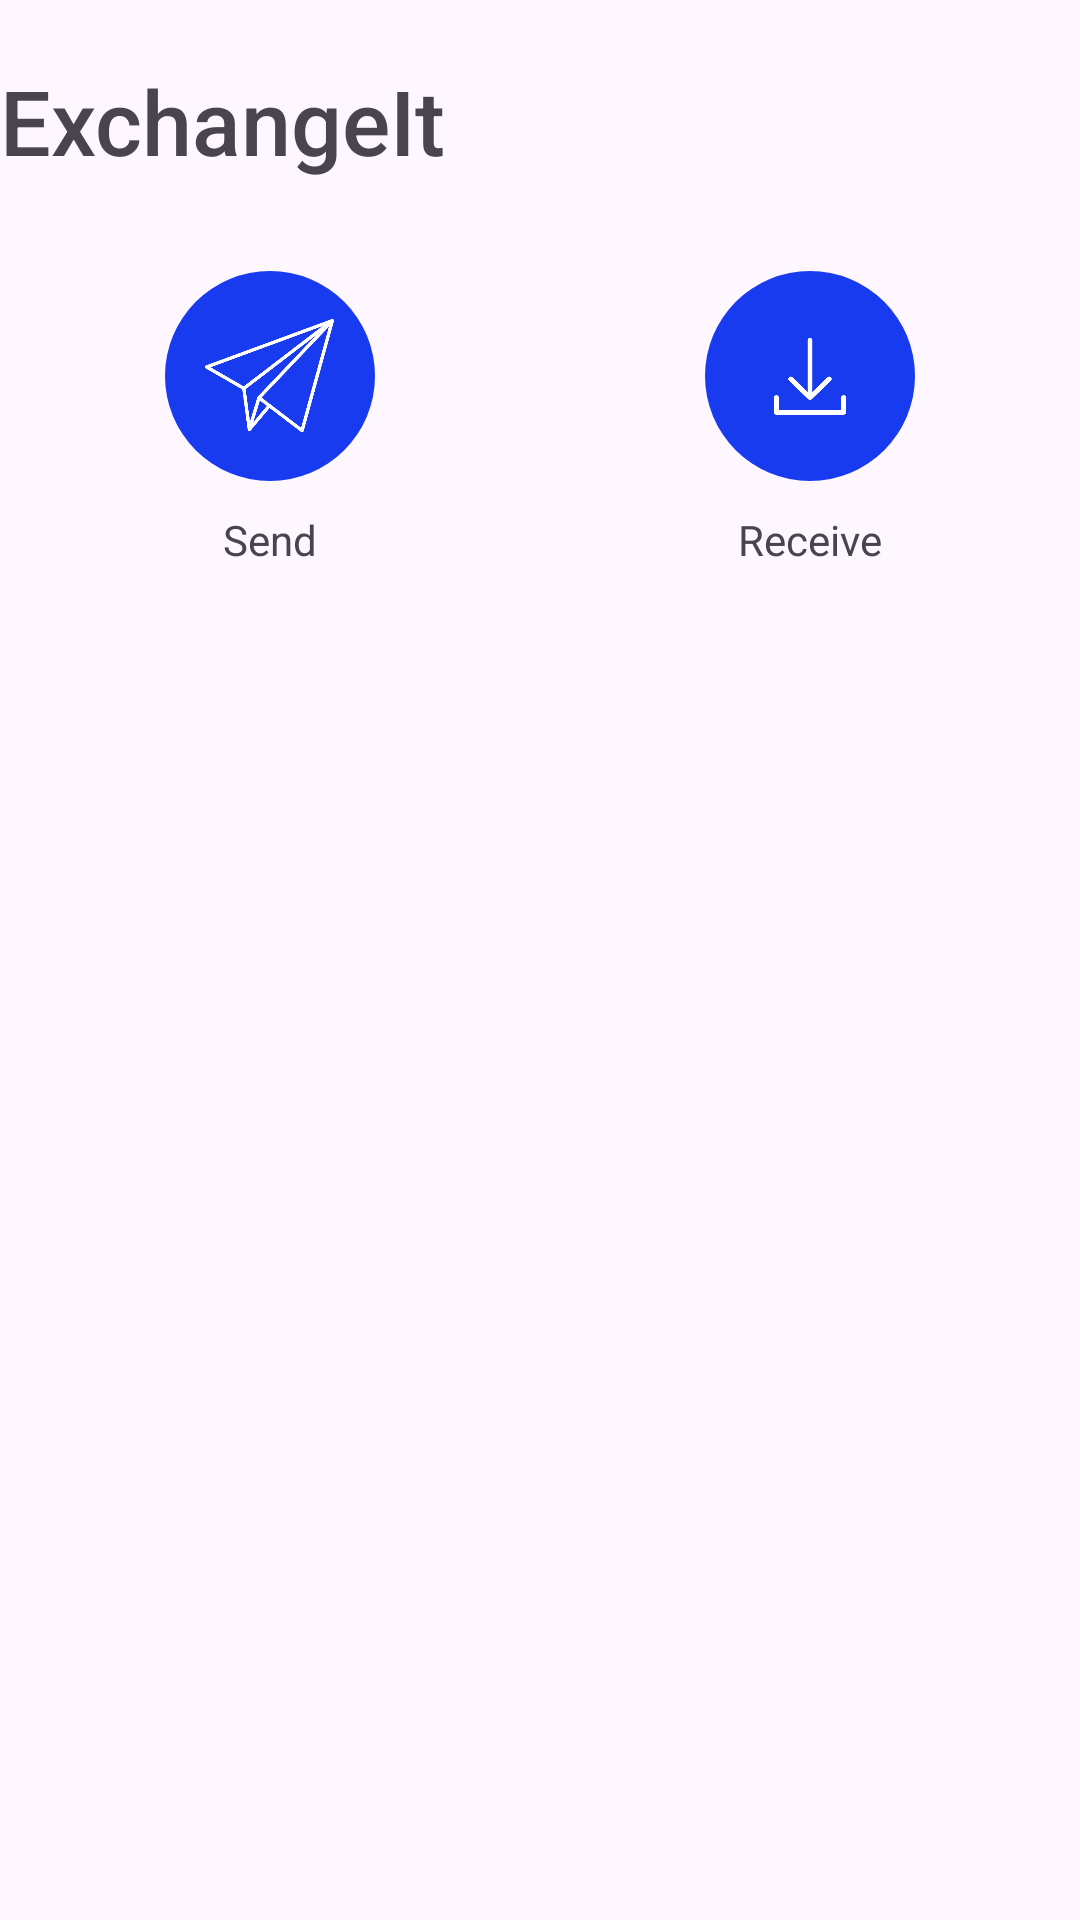

Point at icon controls on the screen. Image size 1080px x 1920px, points as (x=x, y=y).
download: (x=810, y=376)
